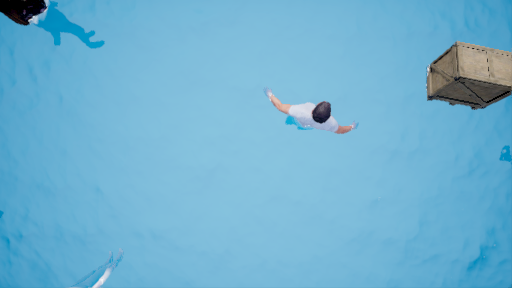person: (258, 92, 359, 142)
